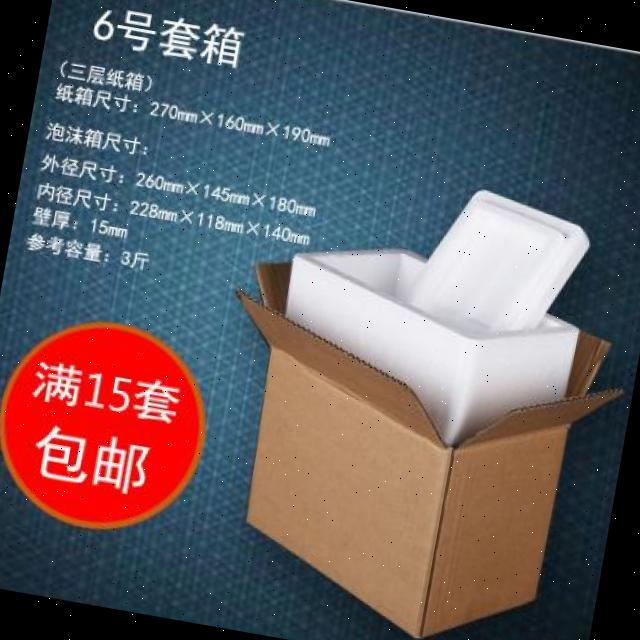styrofoam: (262, 155, 604, 466)
